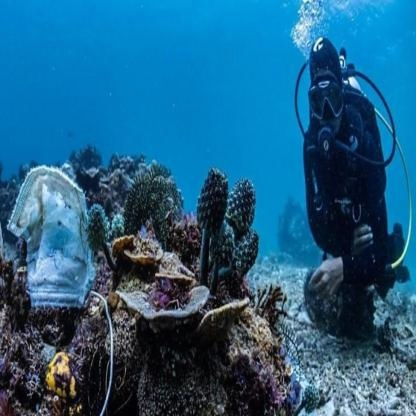Mask: (8, 162, 99, 315)
